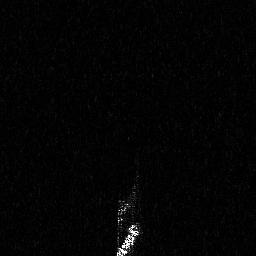ship: (113, 220, 141, 256)
